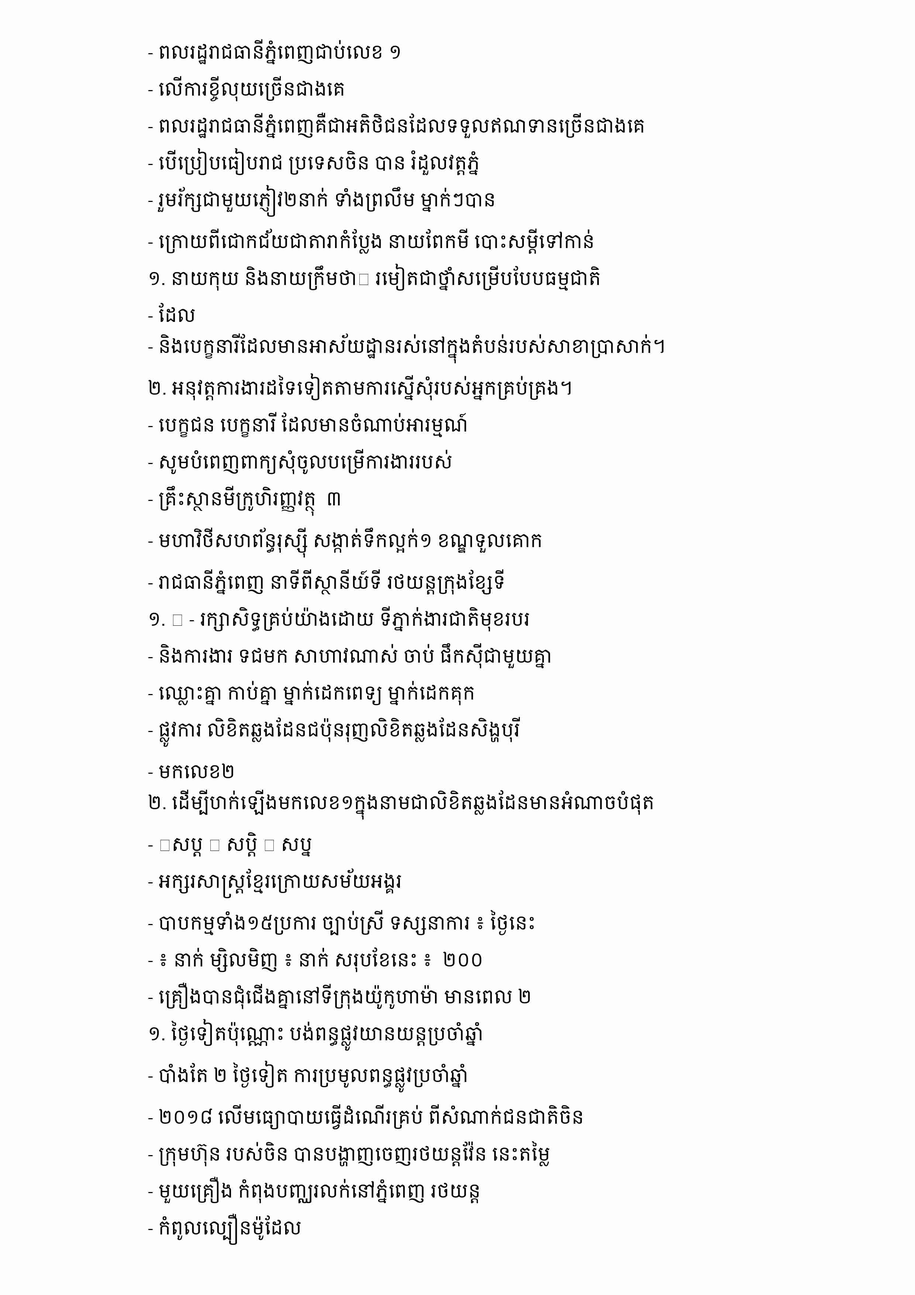text: (148, 333, 670, 364), (148, 790, 659, 820), (148, 113, 650, 138), (148, 264, 606, 291), (148, 373, 578, 401), (148, 528, 548, 558), (148, 1104, 589, 1130), (148, 717, 525, 747), (148, 229, 600, 254), (148, 185, 501, 217), (148, 1019, 488, 1051), (148, 643, 557, 669), (148, 1141, 555, 1167), (148, 982, 537, 1009), (148, 1061, 473, 1093), (148, 606, 535, 632), (148, 910, 541, 935), (148, 569, 510, 595), (148, 148, 484, 175), (148, 1177, 486, 1203), (148, 947, 488, 972), (148, 412, 473, 437), (148, 868, 407, 899), (148, 681, 480, 705), (148, 449, 458, 474), (148, 39, 407, 65), (148, 486, 347, 516), (148, 76, 351, 102), (148, 1213, 307, 1245), (148, 832, 317, 857), (148, 763, 240, 778), (148, 303, 201, 322)
